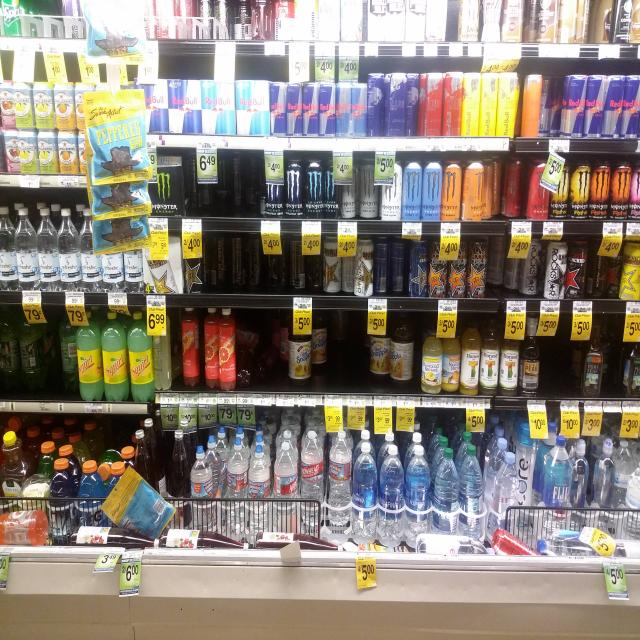empty: (536, 323, 592, 397), (20, 1, 64, 38)
